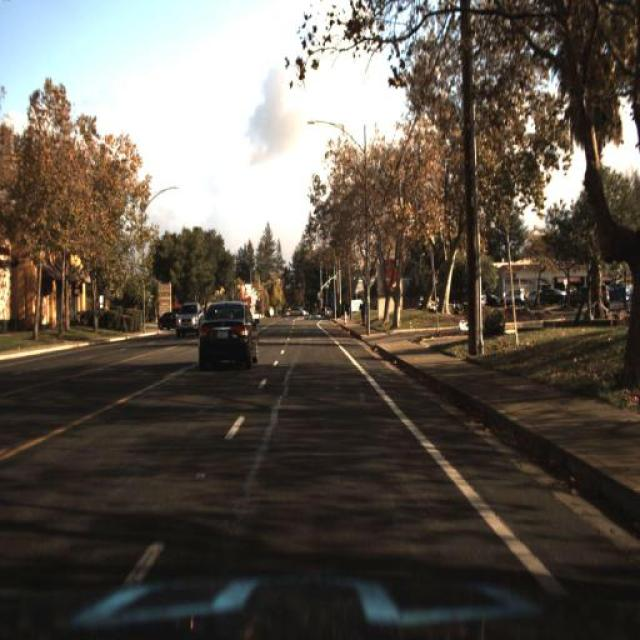car: (196, 299, 260, 375), (177, 302, 205, 339), (154, 312, 187, 336), (537, 286, 567, 310), (502, 287, 530, 308), (290, 307, 306, 317), (604, 282, 610, 308), (321, 307, 333, 318)
trafficLight: (358, 294, 368, 334)
